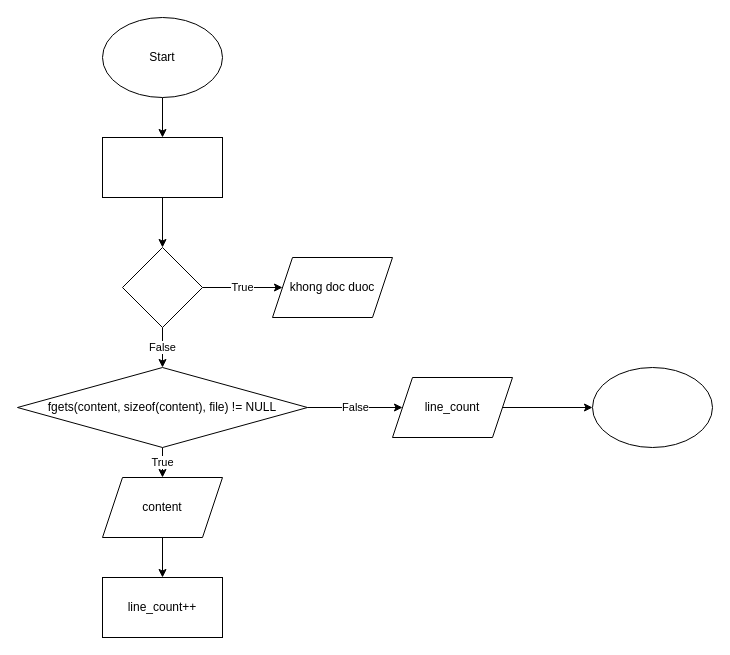
Some shapes in this 730 by 655 pixel diagram are drawn without their labels. Each missing label, with the centre of its shape:
content[50],file line_count=0: pixel 162 167
End: pixel 652 407
file==NULL: pixel 162 287
